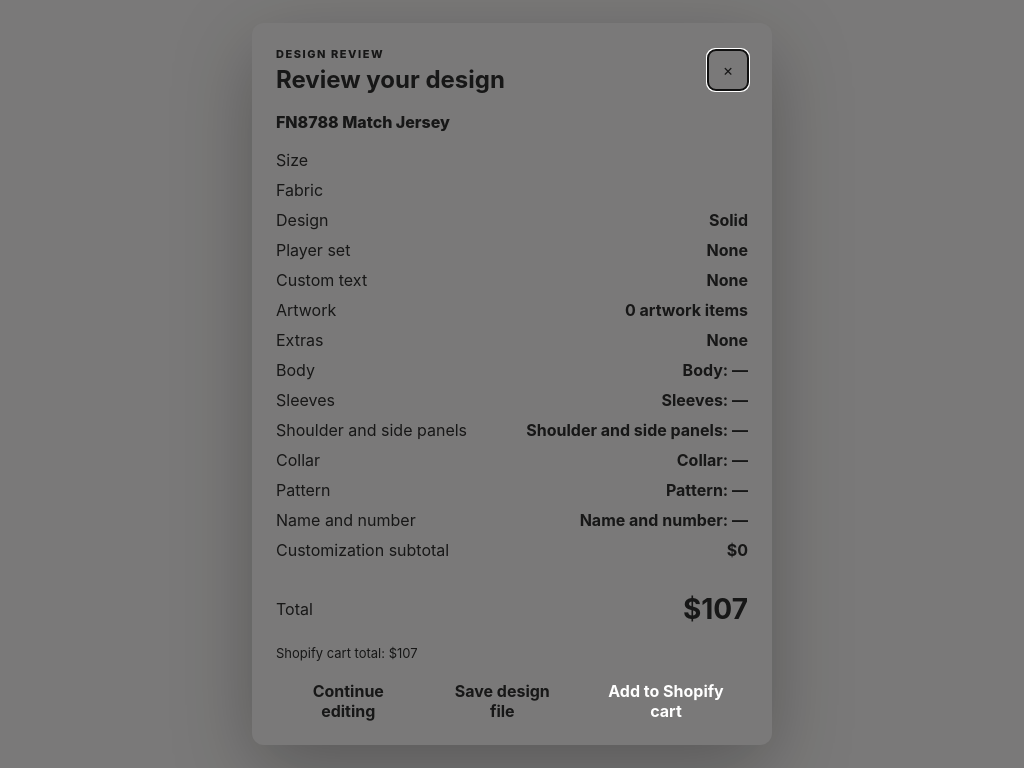
it: DesignReviewDialog › shows a cart generation error inside the open review dialog
Click the button "Add to Shopify cart" at (666, 701), box [584,681,748,721]
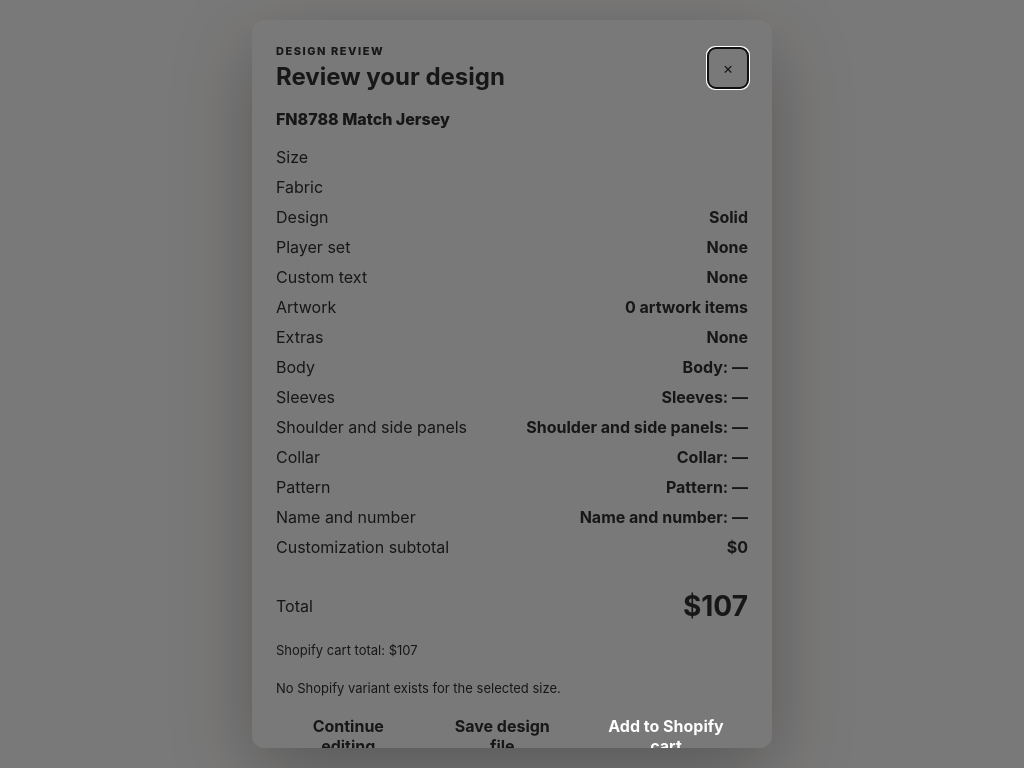
Now the message reads "No Shopify variant exists for the selected size.", box [276,680,561,696]
